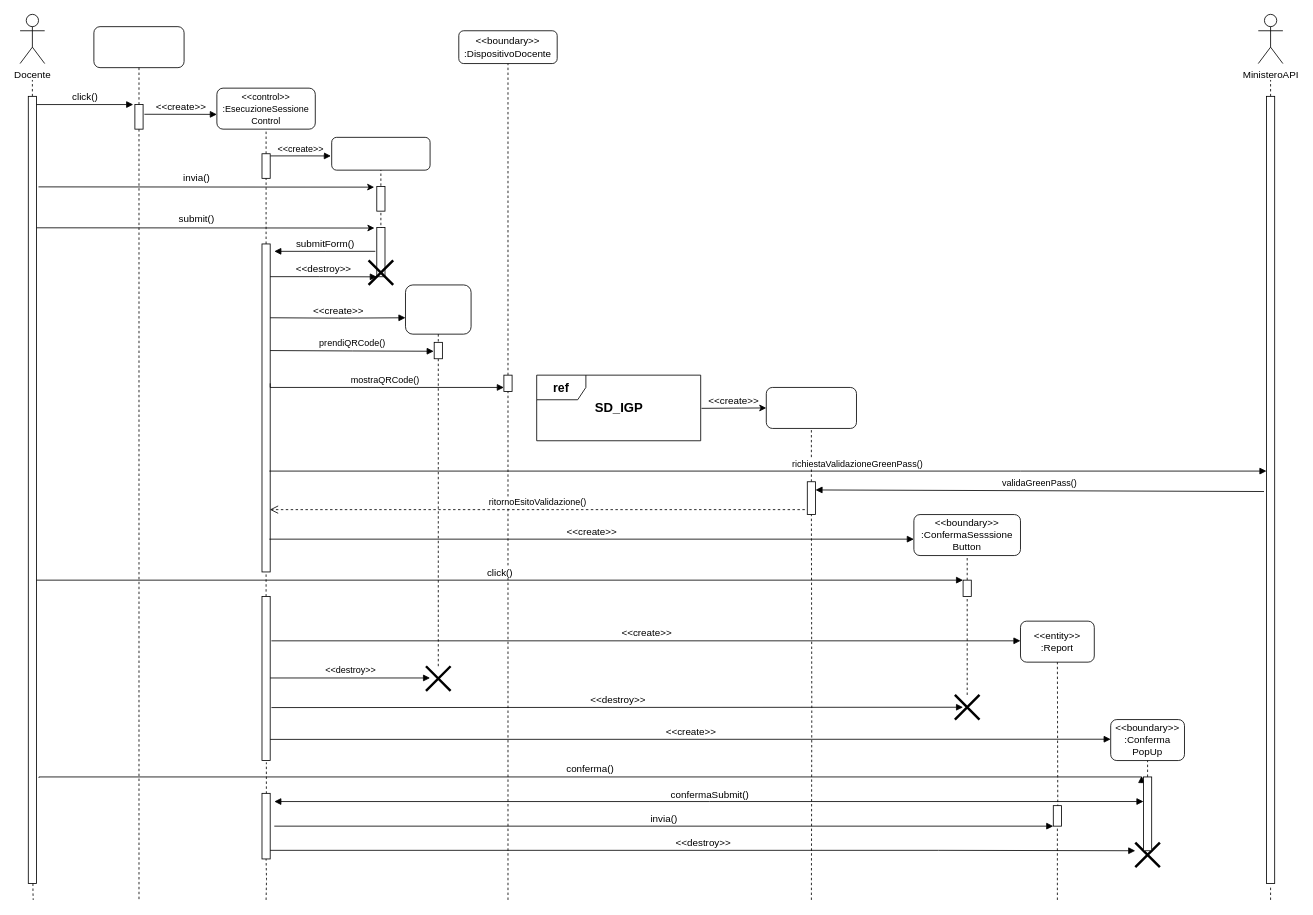
This 1313x915 diagram has some shape labels left out. The shapes that lost their labels are listed below. From the top down, each one's centre as x and y in pixels, then its label:
pixel 138 47: <<boundary>> :IniziaSessione Button
pixel 380 153: <<boundary>> :NumberOfStudentForm
pixel 438 309: <<entity>> :Sessione di Validazione
pixel 810 407: <<entity>> :Esito
